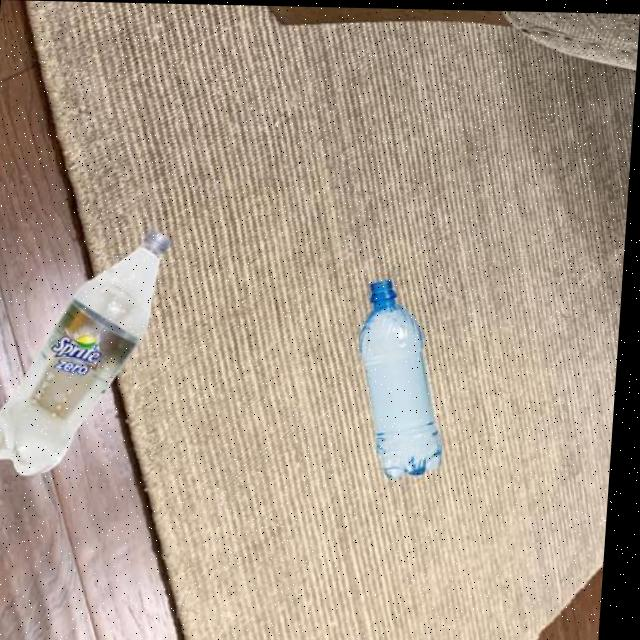bottle: (0, 224, 177, 478), (354, 274, 459, 479)
